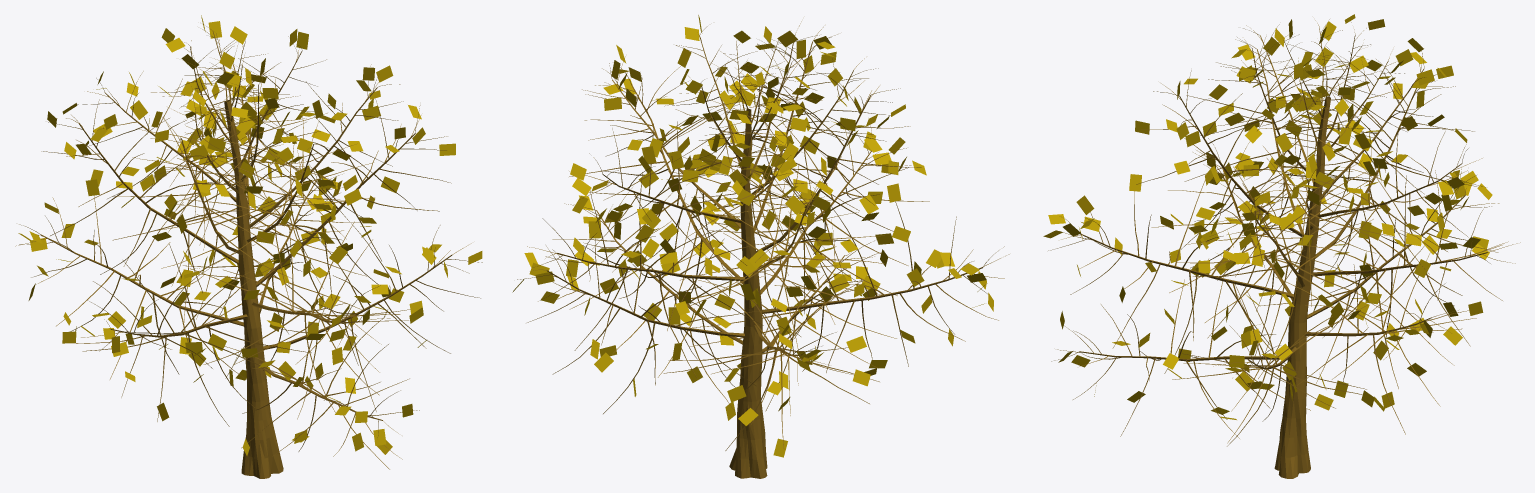
Rendered from drzewko.dae.
3 views of the same model, side by side, from view 1: azimuth 30°, elevation 25°; view 2: azimuth 150°, elevation 25°; view 3: azimuth 270°, elevation 25° (orthographic). The views are drawn at different scales.
Visible parts, largest first — view 1: elm2_w; view 2: elm2_w; view 3: elm2_w.
Part boxes in pixels (bbox=[...]): elm2_w: bbox=[15, 15, 482, 478]; elm2_w: bbox=[512, 15, 1009, 478]; elm2_w: bbox=[1043, 14, 1520, 478].
Size of the model in its own units: 4.31 by 4.31 by 4.36.
